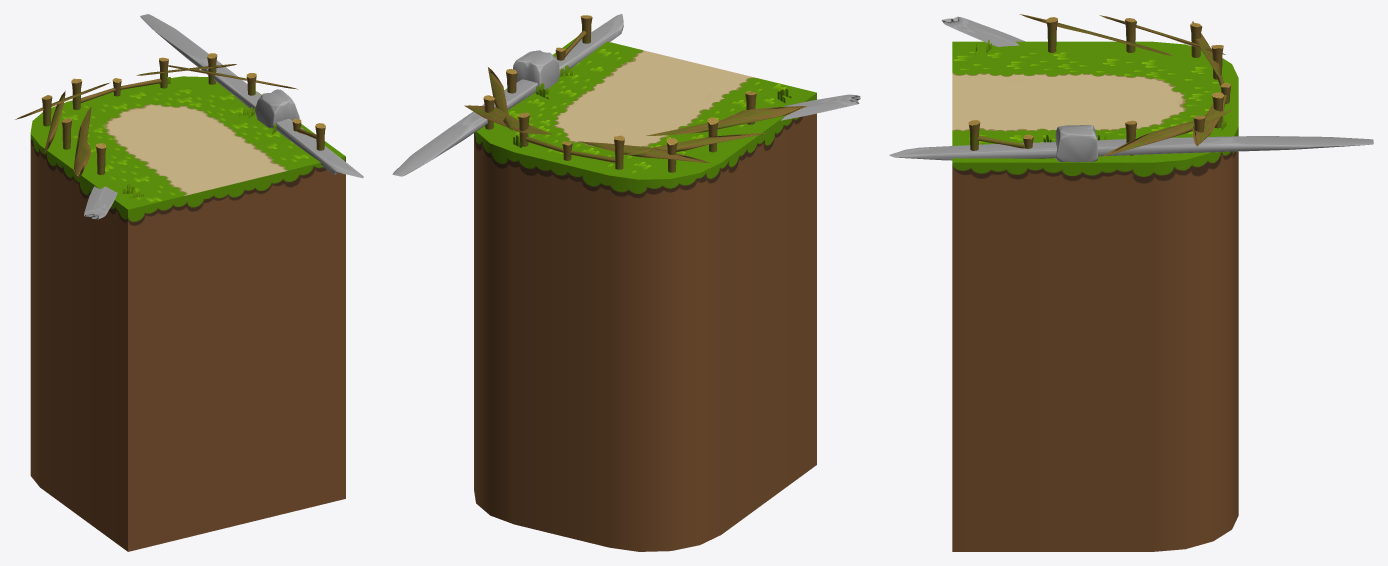
The model's file is Plataforma Inicio.fbx.
3 renders of one model, left to right at view 1: azimuth 30°, elevation 25°; view 2: azimuth 150°, elevation 25°; view 3: azimuth 270°, elevation 25°, orthographic. The views are drawn at different scales.
Parts seen in each view (by area): view 1: Plataforma Inicio.001, Cube.074, Cube.073, Cube.080, Cylinder.058; view 2: Plataforma Inicio.001, Cube.074, Cube.073, Cylinder.058, Cube.080, Cylinder.048, Cylinder.053, Cylinder.044; view 3: Plataforma Inicio.001, Cube.074, Cube.073, Cube.080, Cylinder.052.
Part boxes in pixels (<box>): Plataforma Inicio.001: <box>30,76,345,551</box>; Cube.074: <box>140,14,363,178</box>; Cube.073: <box>255,89,299,128</box>; Cube.080: <box>84,186,117,219</box>; Cylinder.058: <box>73,107,91,178</box>; Plataforma Inicio.001: <box>474,37,816,551</box>; Cube.074: <box>392,14,623,176</box>; Cube.073: <box>513,50,559,91</box>; Cylinder.058: <box>646,106,806,135</box>; Cube.080: <box>781,94,860,120</box>; Cylinder.048: <box>580,141,710,163</box>; Cylinder.053: <box>624,133,766,154</box>; Cylinder.044: <box>464,105,551,134</box>; Plataforma Inicio.001: <box>952,41,1238,551</box>; Cube.074: <box>889,136,1373,160</box>; Cube.073: <box>1055,125,1097,162</box>; Cube.080: <box>941,16,1025,46</box>; Cylinder.052: <box>1103,109,1232,156</box>.
Size of the model in its own units: 1277 by 1624 by 1693.
